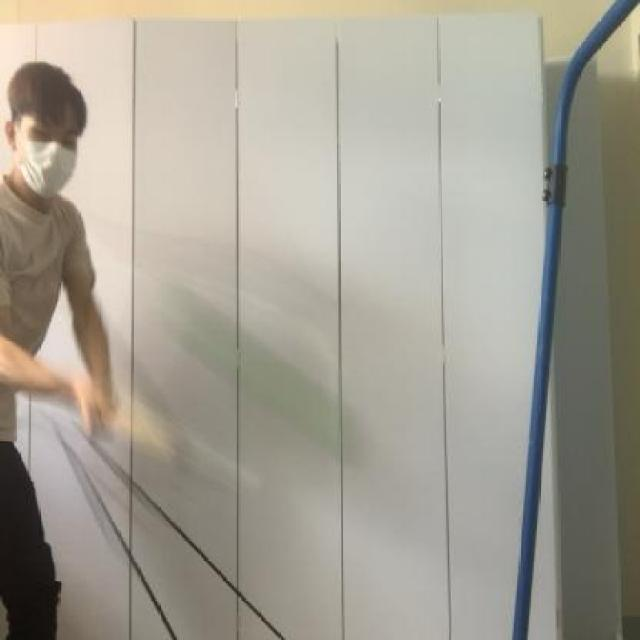baseball: (160, 269, 369, 465)
